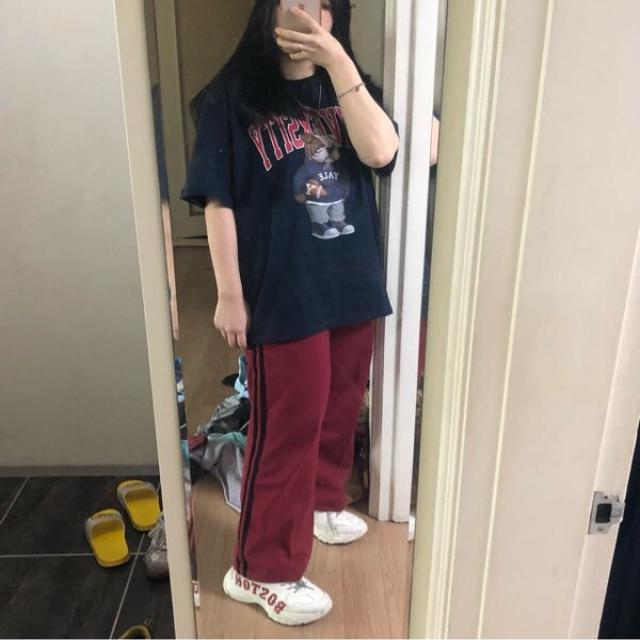mtm: (237, 311, 376, 584)
shortsleeve: (177, 61, 395, 345)
